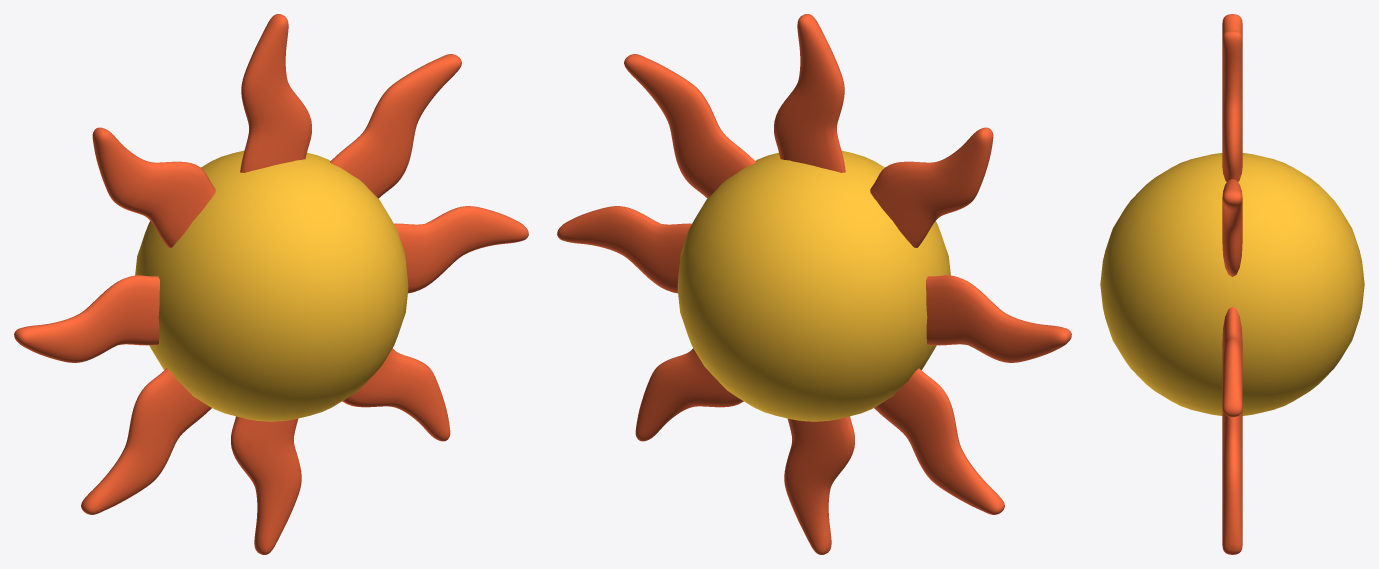
The model's file is Sun 01.glb.
The picture shows the model from 3 angles, left to right: view 1: azimuth 30°, elevation 25°; view 2: azimuth 150°, elevation 25°; view 3: azimuth 270°, elevation 25°; orthographic projection. The views are drawn at different scales.
Parts seen in each view (by area): view 1: Sphere, Plane, Plane.006, Plane.007, Plane.005, Plane.001, Plane.004, Plane.002, Plane.003; view 2: Sphere, Plane, Plane.006, Plane.007, Plane.005, Plane.001, Plane.004, Plane.002, Plane.003; view 3: Sphere, Plane, Plane.003, Plane.002, Plane.001, Plane.007.
Boxes of the visible parts, x1,y1,x2,y2 form: Sphere: (135, 150, 408, 421); Plane: (240, 14, 311, 172); Plane.006: (14, 275, 159, 362); Plane.007: (92, 127, 215, 247); Plane.005: (81, 368, 211, 514); Plane.001: (330, 54, 461, 198); Plane.004: (231, 416, 301, 554); Plane.002: (394, 206, 528, 293); Plane.003: (342, 348, 450, 441); Sphere: (677, 150, 950, 421); Plane: (774, 14, 845, 172); Plane.006: (926, 275, 1071, 362); Plane.007: (870, 127, 993, 247); Plane.005: (874, 368, 1004, 514); Plane.001: (624, 54, 755, 198); Plane.004: (784, 416, 854, 554); Plane.002: (557, 206, 691, 293); Plane.003: (635, 348, 743, 441); Sphere: (1100, 153, 1364, 415); Plane: (1222, 30, 1242, 181); Plane.003: (1222, 408, 1242, 554); Plane.002: (1222, 307, 1242, 417); Plane.001: (1222, 179, 1242, 276); Plane.007: (1222, 14, 1242, 37).
Bounding box in the file's own units: 3.08 × 3.08 × 1.44.
